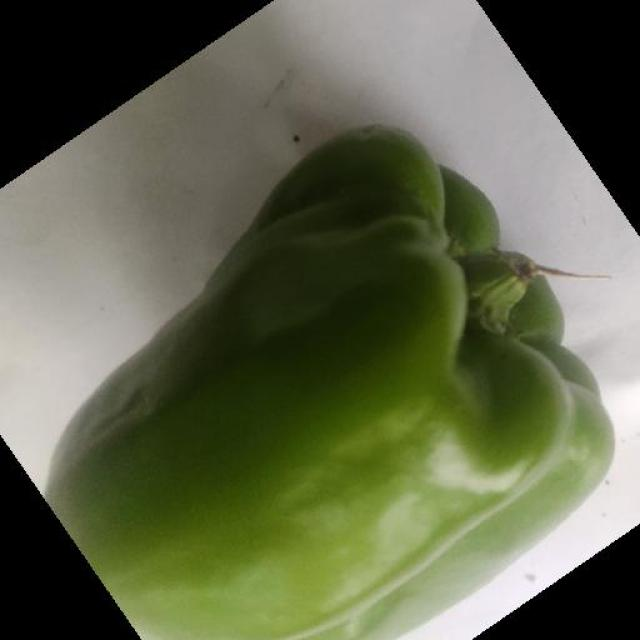Fresh_Capsicum: (64, 337, 566, 556)
